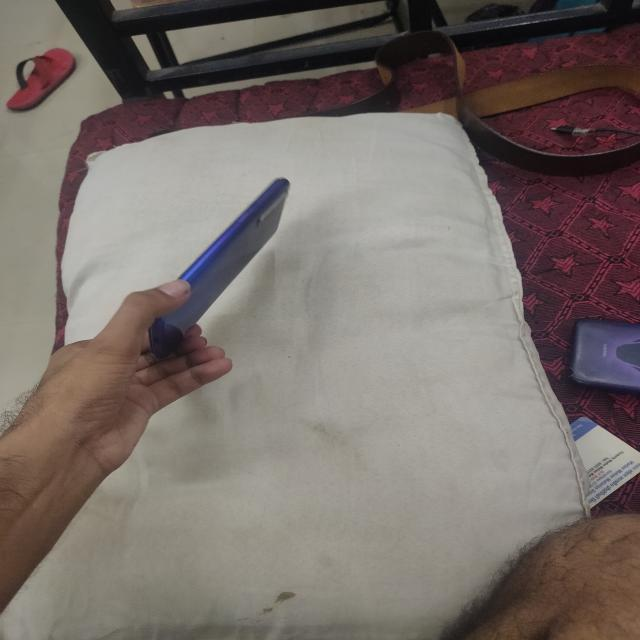Phone: (144, 172, 298, 355)
